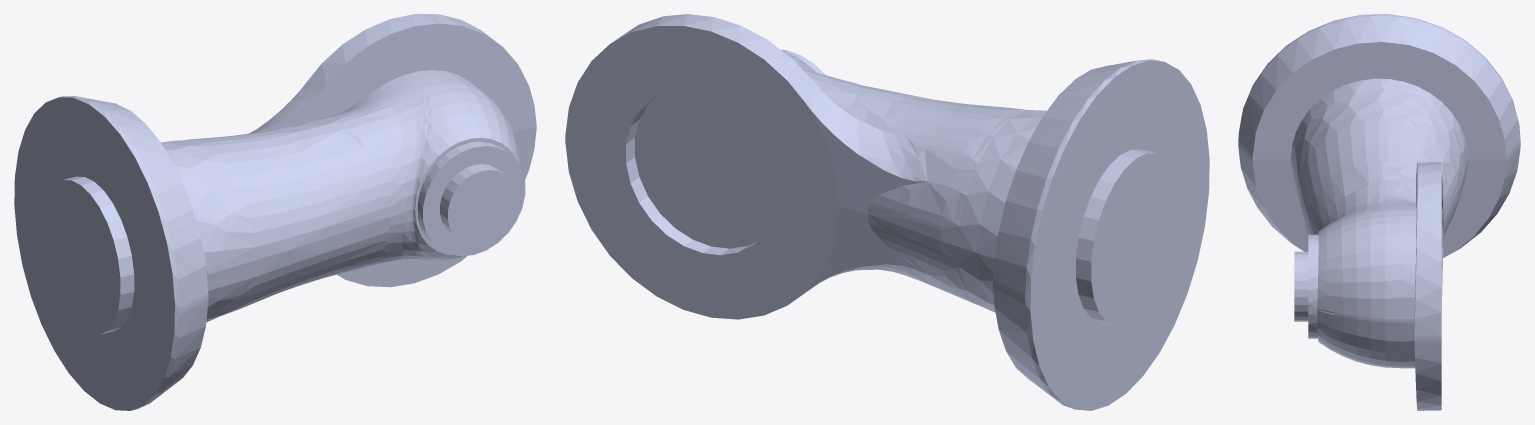
3 renders of one model, left to right at view 1: azimuth 30°, elevation 25°; view 2: azimuth 150°, elevation 25°; view 3: azimuth 270°, elevation 25°, orthographic. The views are drawn at different scales.
Parts seen in each view (by area): view 1: node0; view 2: node0; view 3: node0.
Boxes of the visible parts, x1,y1,x2,y2 form: node0: (14,14,536,410); node0: (565,14,1209,410); node0: (1238,14,1520,410).
Bounding box in the file's own units: 0.3446 × 0.202 × 0.2016.
